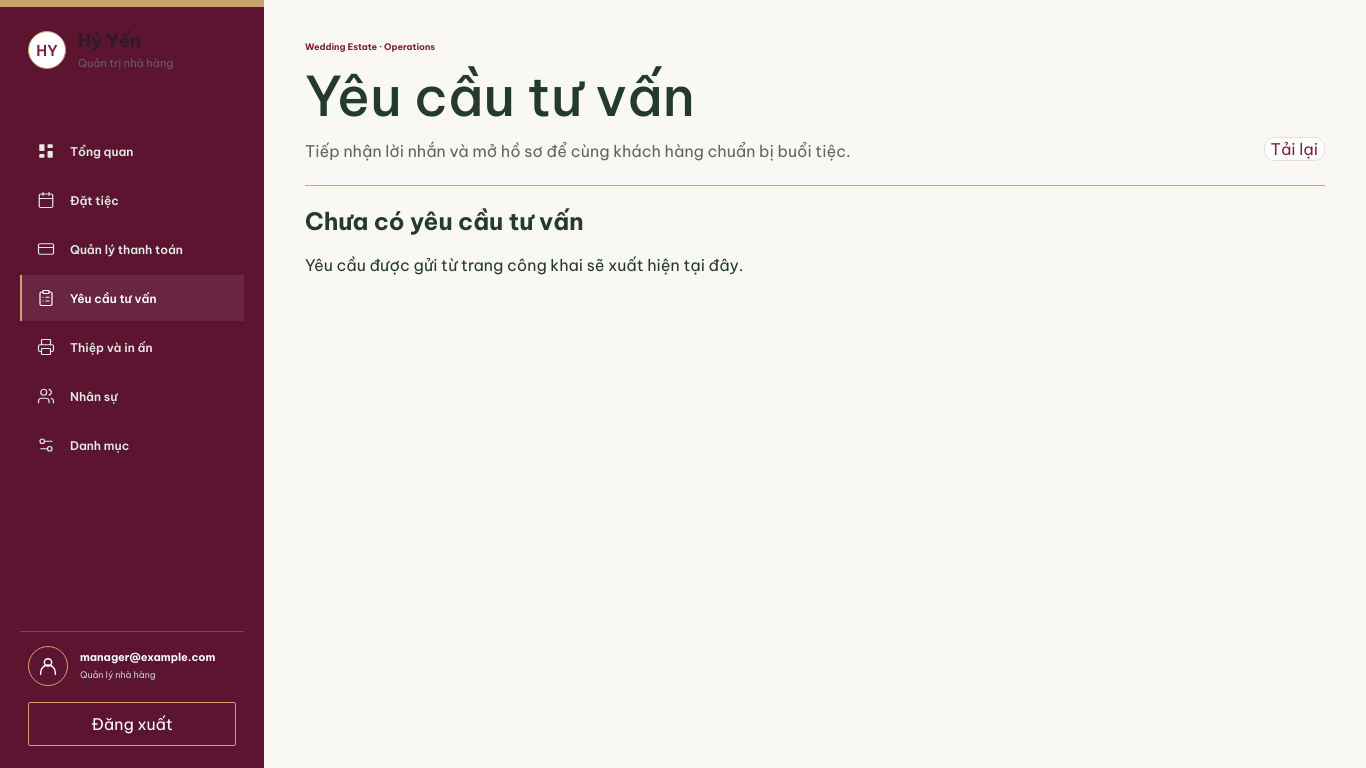
Test: Consultation navigation › logs out from the consultation sidebar and hides management content
Check: the heading "Chưa có yêu cầu tư vấn" is shown, box [305, 206, 584, 236]
Click the button "Đăng xuất". click: (132, 724)
box: [28, 702, 236, 746]
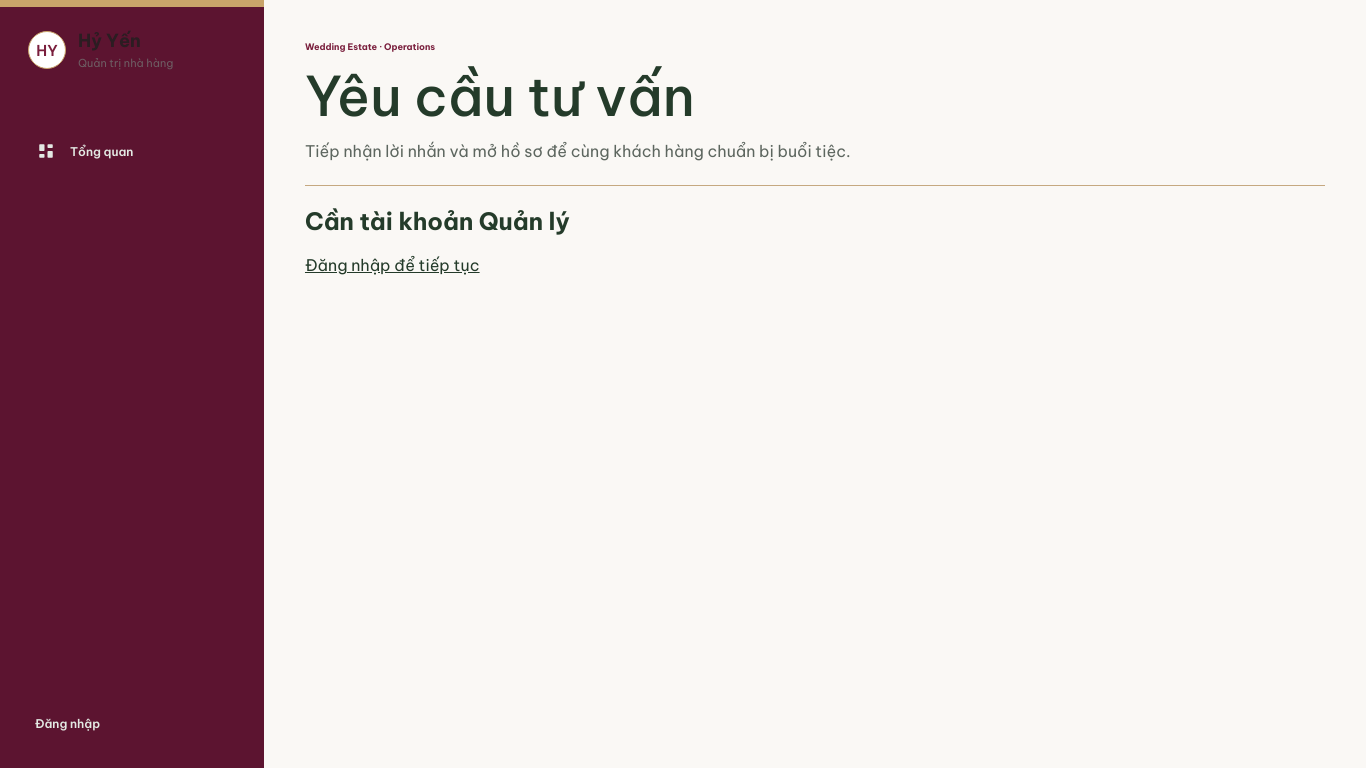
Check: the heading "Cần tài khoản Quản lý" is shown, box [305, 206, 570, 236]
Check: the heading "Chưa có yêu cầu tư vấn" is gone
Check: the button "Đăng xuất" is gone
